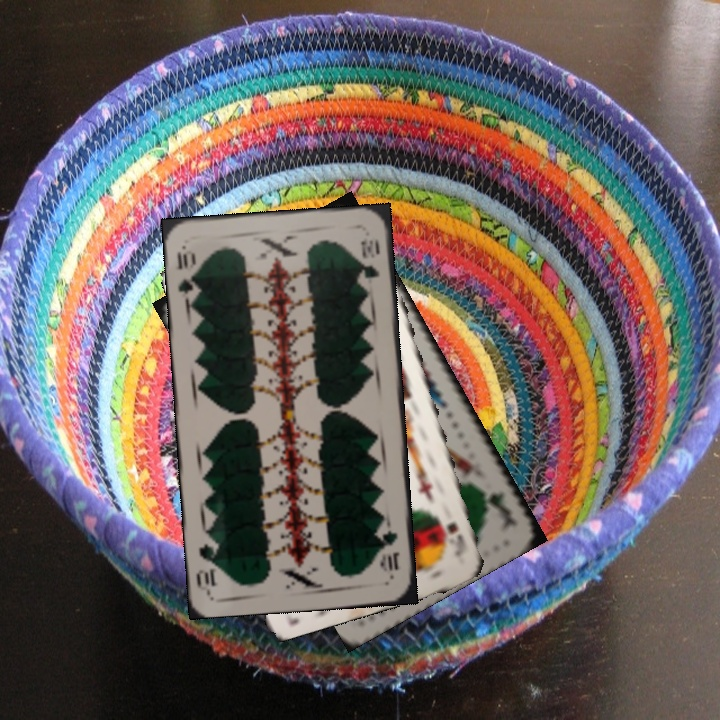G10: (173, 243, 201, 301), (377, 526, 402, 574)
GK: (477, 483, 516, 524)
SK: (434, 510, 469, 555)
